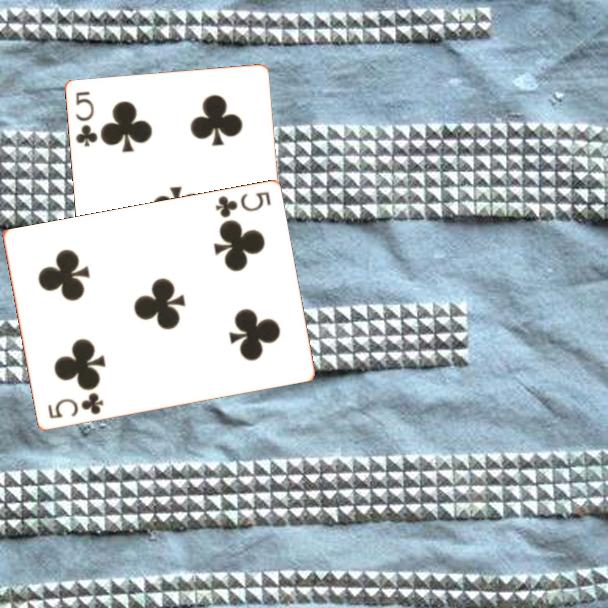c05: (44, 389, 106, 422), (212, 188, 274, 221), (72, 88, 101, 150)
